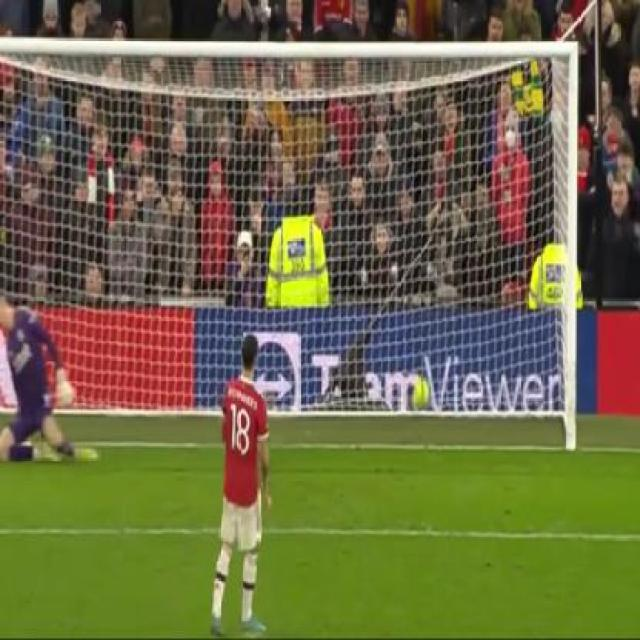ball: (397, 373, 441, 413)
cage: (0, 30, 582, 448)
gardien: (0, 286, 98, 463)
joueur: (206, 334, 272, 635)
